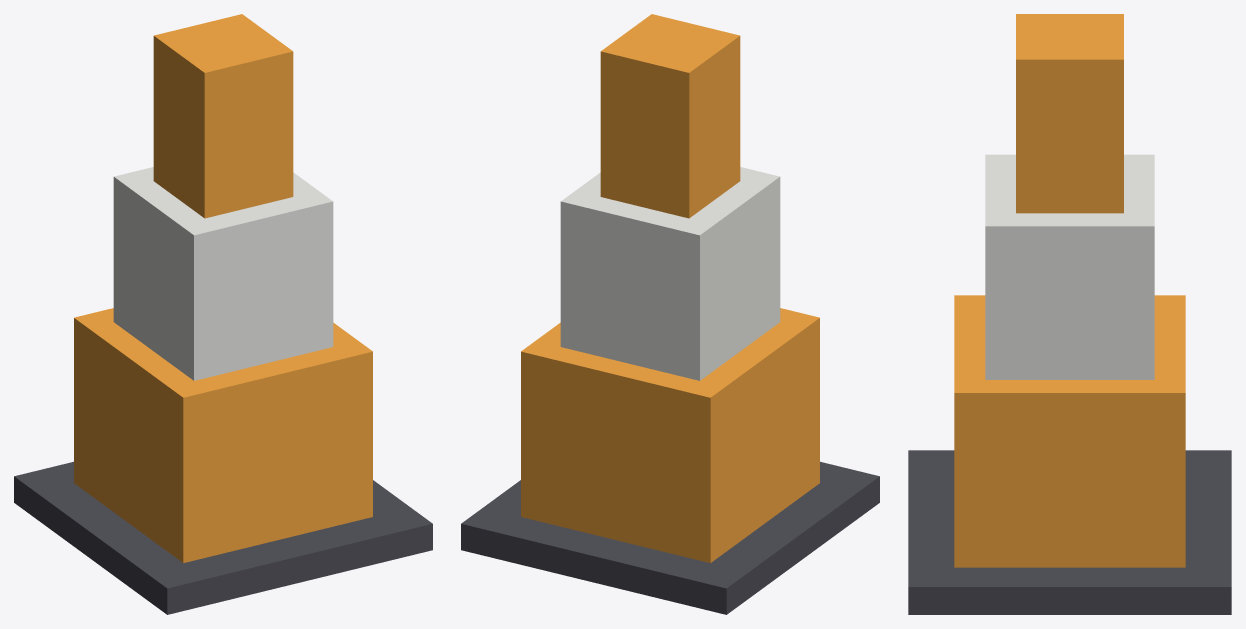
File: SM_Cono_Obra.fbx
3 views of the same model, side by side, from view 1: azimuth 30°, elevation 25°; view 2: azimuth 150°, elevation 25°; view 3: azimuth 270°, elevation 25° (orthographic). The views are drawn at different scales.
Visible parts, largest first — view 1: SM_Cono_Obra; view 2: SM_Cono_Obra; view 3: SM_Cono_Obra.
Boxes of the visible parts, x1,y1,x2,y2 form: SM_Cono_Obra: (14, 14, 432, 614); SM_Cono_Obra: (461, 14, 879, 614); SM_Cono_Obra: (908, 14, 1231, 614).
Bounding box in the file's own units: 0.42 × 0.73 × 0.42.
